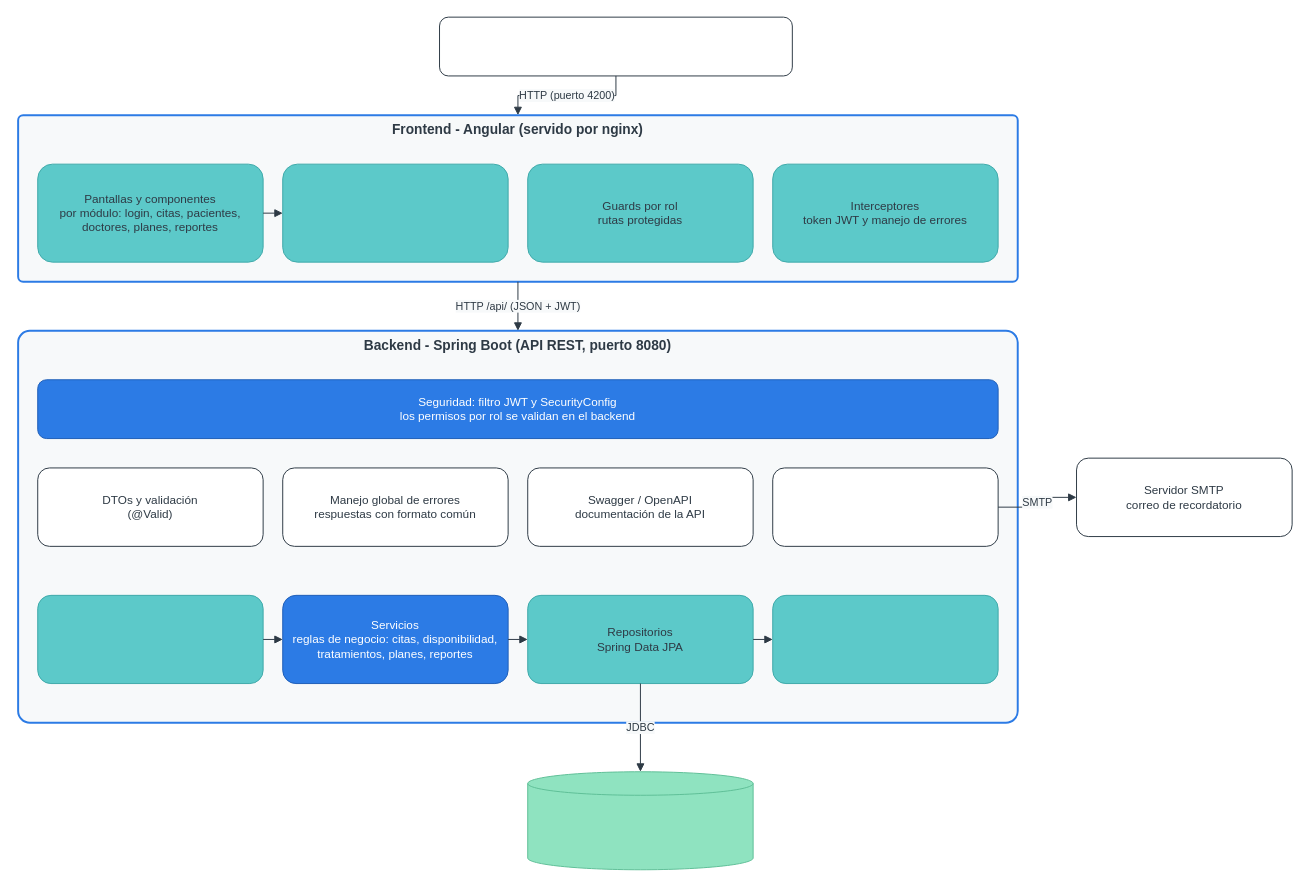
The diagram is 1309 pixels wide and 887 high, and some of its shapes have lost their labels. The centre of each missing label's shape, as x and y in pixels:
Controllers endpoints REST: (x=150, y=639)
Entidades JPA mapeo al esquema SQL: (x=885, y=639)
PostgreSQL 16 esquema SQL y migraciones: (x=640, y=820)
Servicios HTTP consumen la API REST: (x=395, y=212)
Tareas programadas recordatorio de citas (cron): (x=885, y=506)
Usuarios (navegador) Administrador, Secretaria, Doctor y Paciente: (x=615, y=46)
